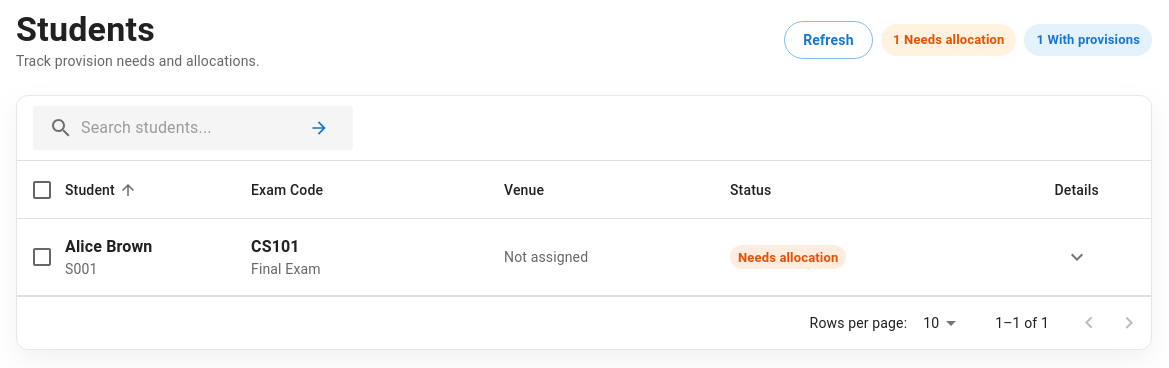
Test: AdminStudents › shows empty state when no students match search
Step 1. Type "zzz" into the field with placeholder "Search students..." → {"x": 191, "y": 128}, box 81,112 -> 301,144
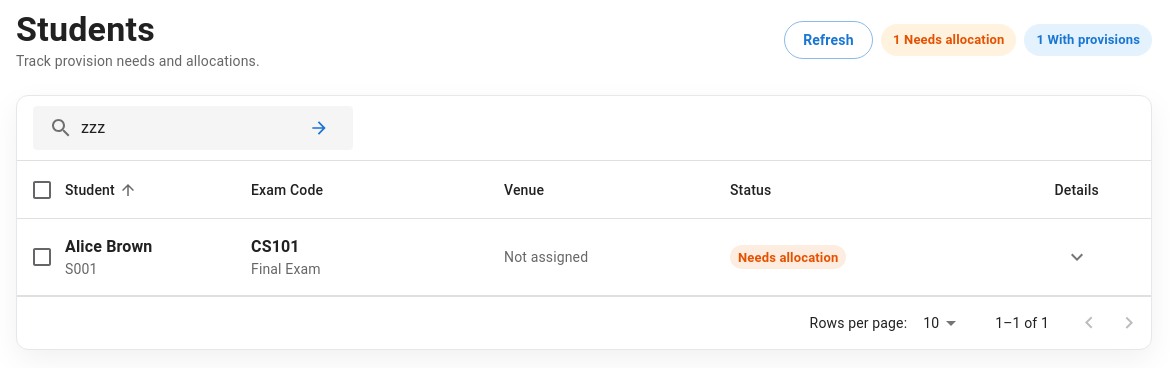
Step 2. Click the button named "apply search" → {"x": 319, "y": 128}, box 301,110 -> 337,146
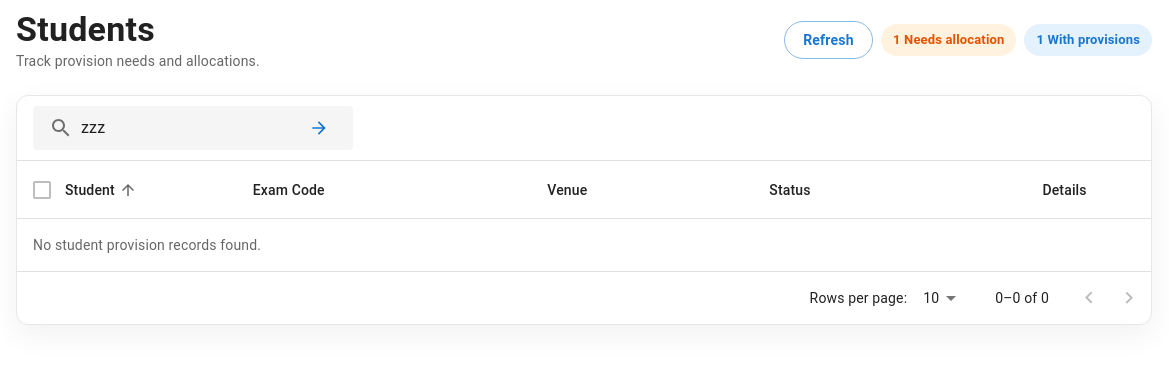
Expected: the text "No student provision records found." is shown, 33,237 -> 261,253
